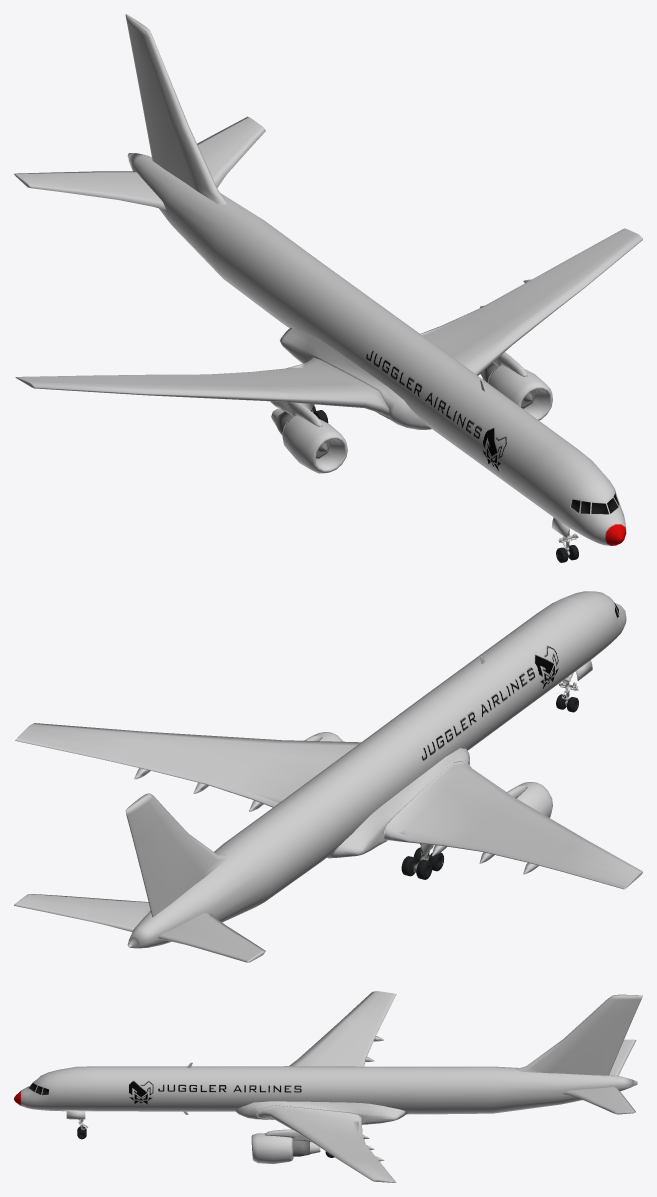
File: Samolot_Pozycja_000_na_srodku_5400_CM.glb
3 renders of one model, top to bottom at view 1: azimuth 30°, elevation 25°; view 2: azimuth 150°, elevation 25°; view 3: azimuth 270°, elevation 25°, orthographic. The views are drawn at different scales.
Visible parts, largest first — view 1: Mesh; view 2: Mesh; view 3: Mesh.
Boxes of the visible parts, x1=… form: Mesh: x1=14, y1=14, x2=642, y2=562; Mesh: x1=14, y1=591, x2=642, y2=962; Mesh: x1=14, y1=991, x2=642, y2=1182.
Size of the model in its own units: 38.68 by 13.53 by 54.49.
Materials: 1 (1 with a texture image).
